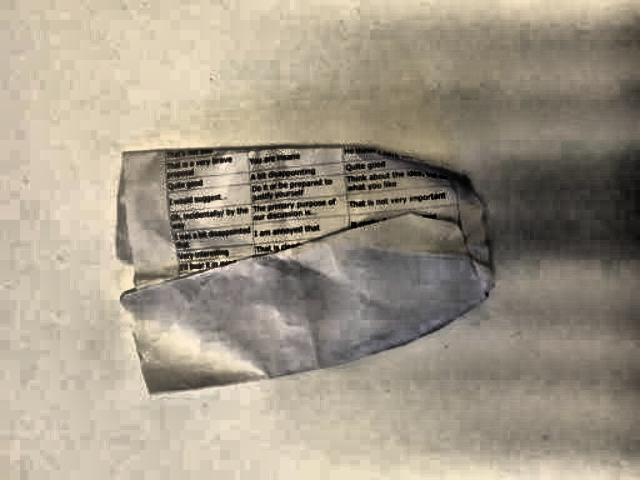Paper: (109, 138, 510, 400)
